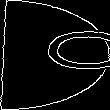O_W: (4, 32, 106, 78)
